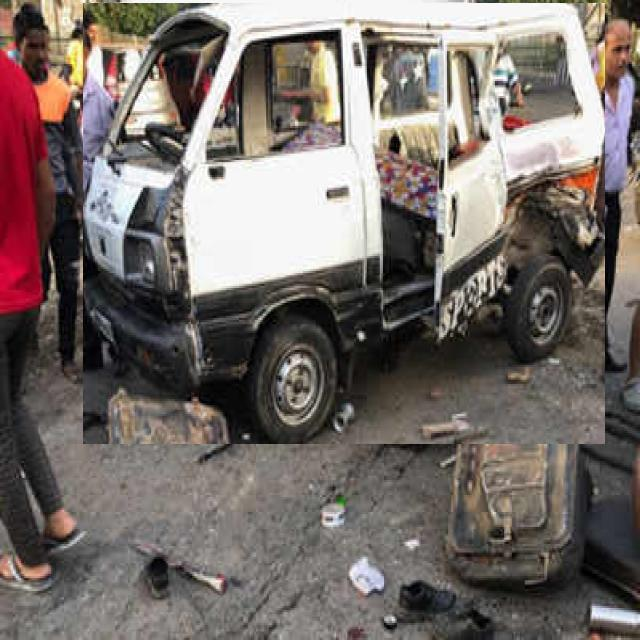accident: (83, 4, 604, 444)
